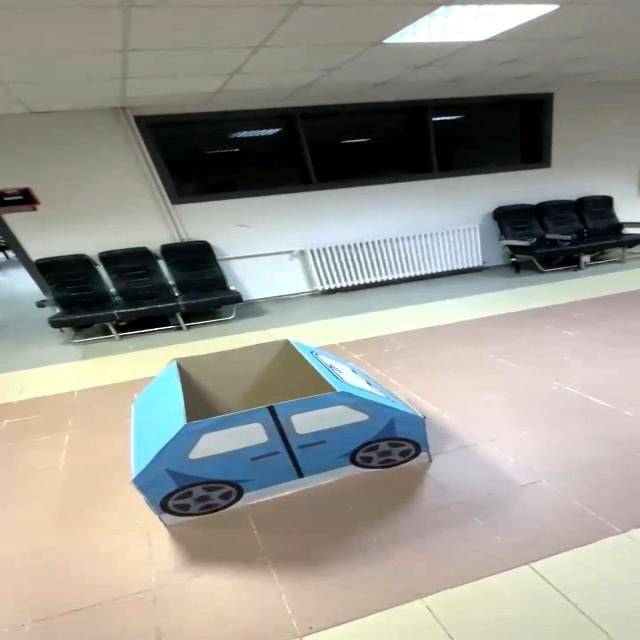blue_car: (68, 321, 491, 538)
